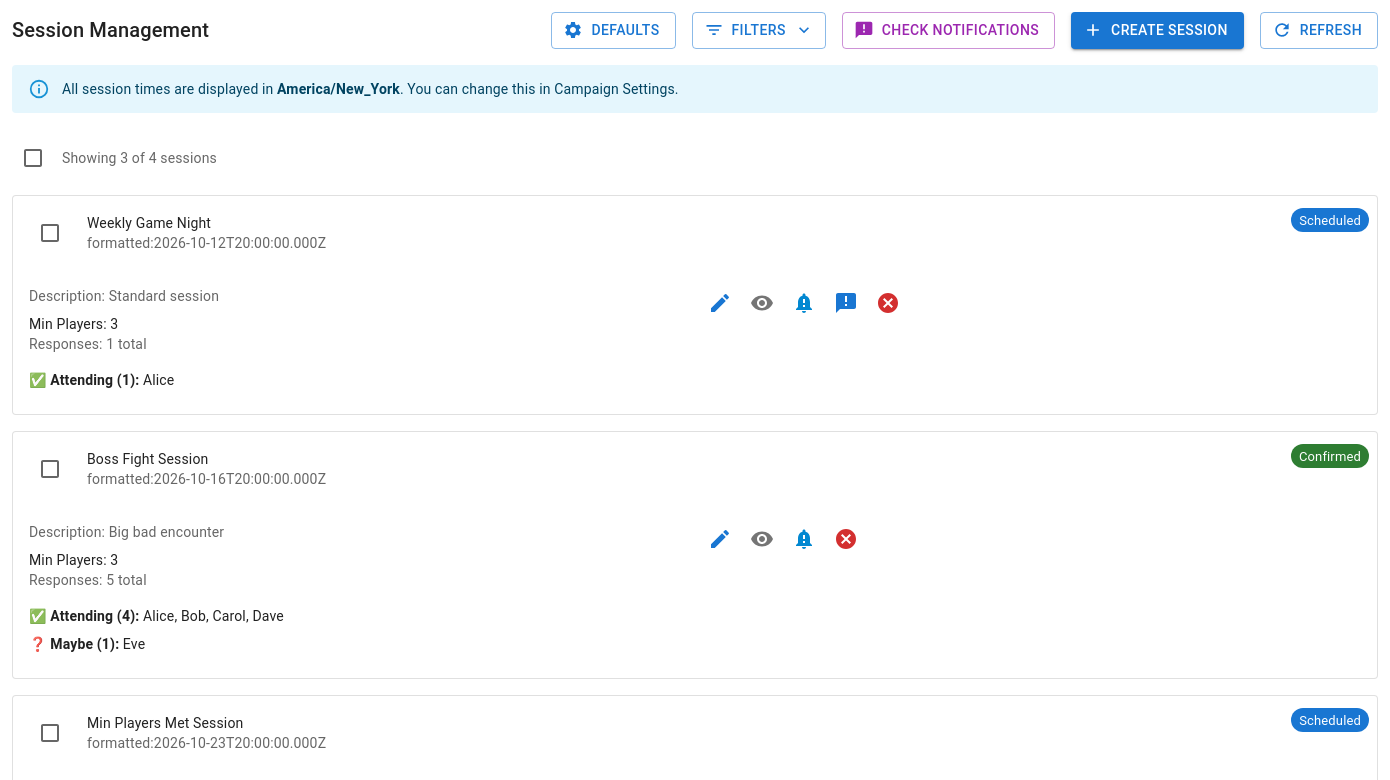
Test: SessionManagement › Announce Session › clicking Announce sends POST /sessions/:id/announce and shows success
Expected: the text "Weekly Game Night" is shown, [87,214,211,230]
// Announce icons are visible on upcoming + scheduled sessions only
What coordinates should you click on to do the following:
click the button named "post discord announcement"
I would click on:
 (846, 302)
Its box is [829,286,863,320].
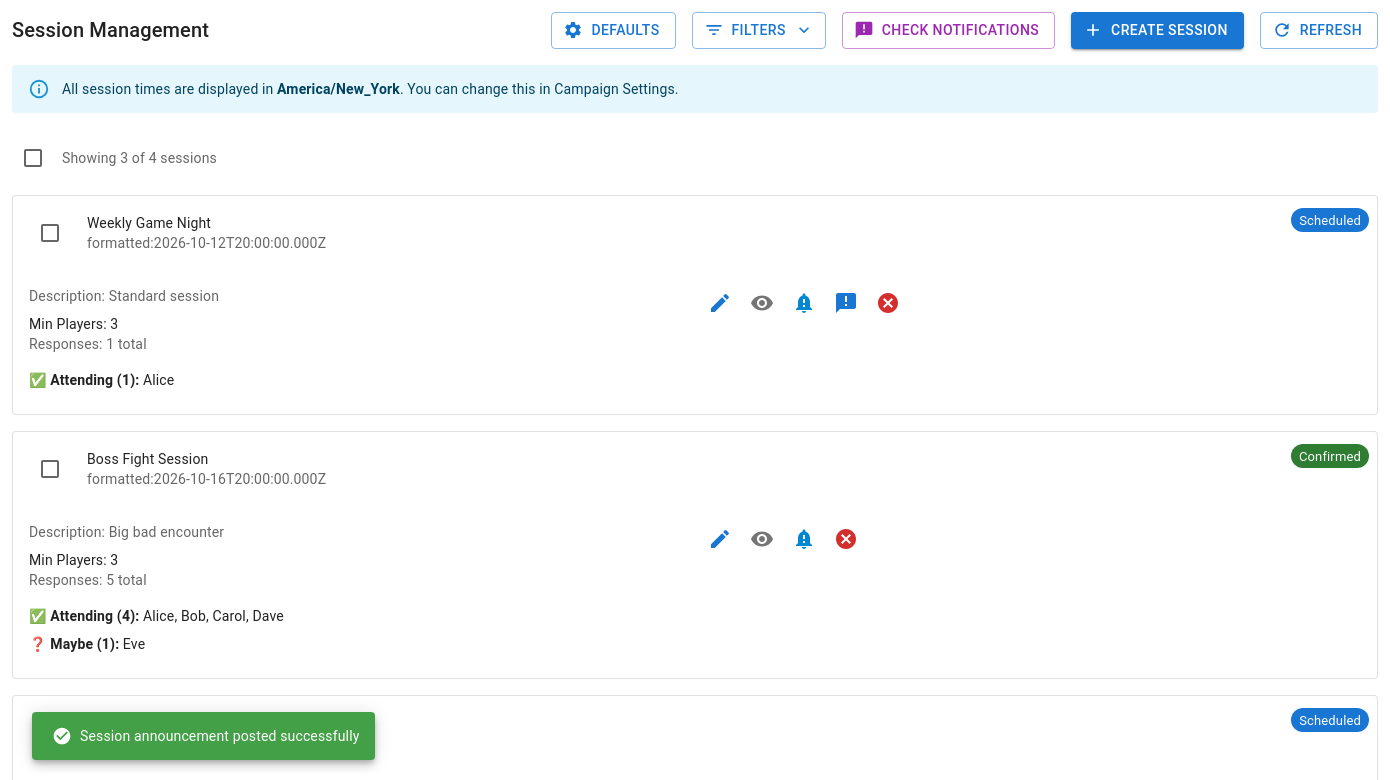
Expected: the text "Session announcement posted successfully" is shown, [52,726,360,746]
